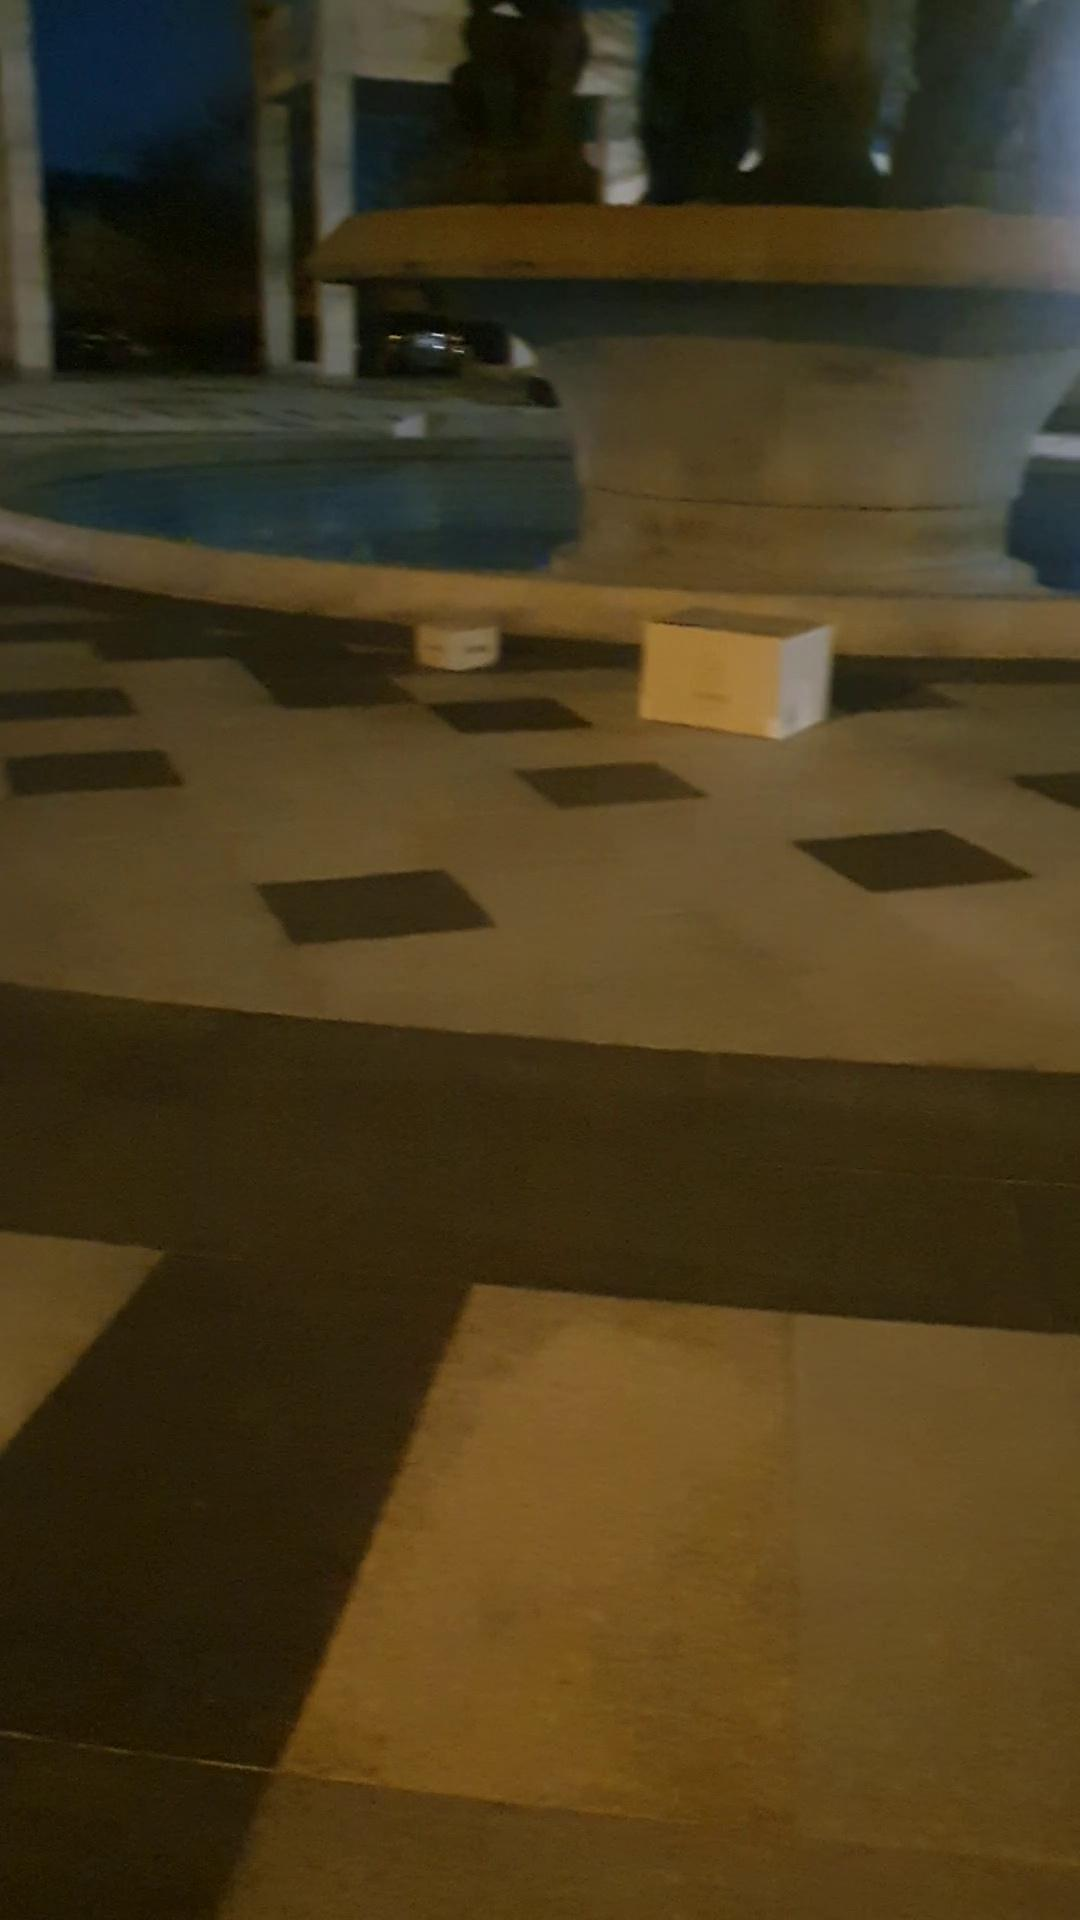Box: (632, 608, 837, 742), (398, 611, 510, 680)
